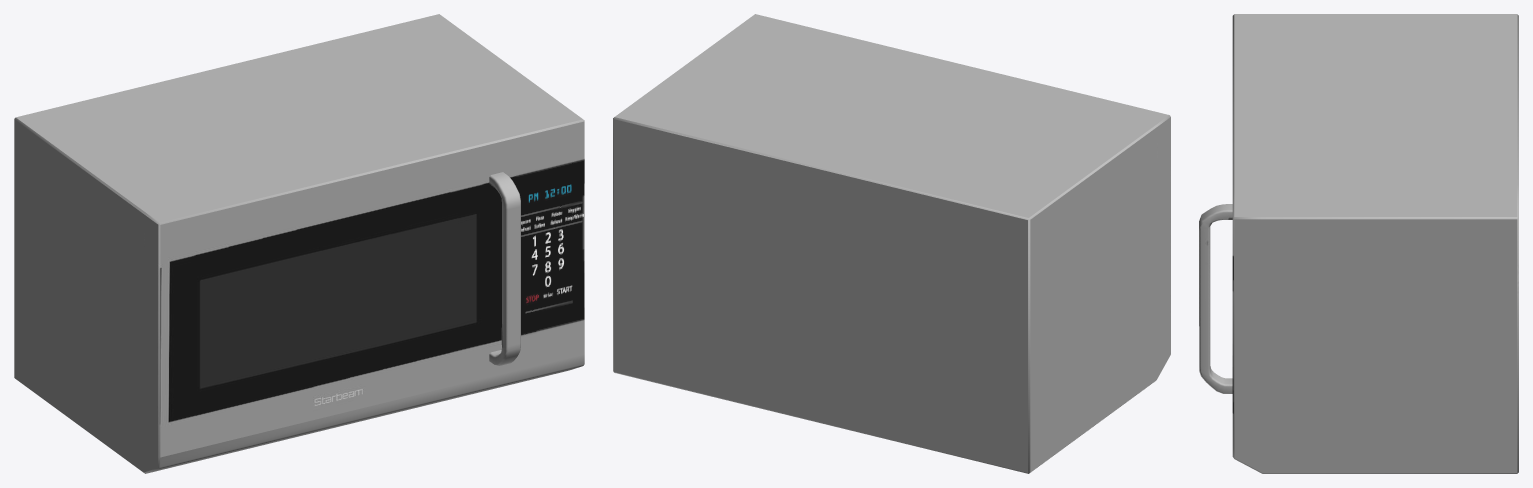
File: Micro_3.fbx
3 renders of one model, left to right at view 1: azimuth 30°, elevation 25°; view 2: azimuth 150°, elevation 25°; view 3: azimuth 270°, elevation 25°, orthographic. The views are drawn at different scales.
Parts seen in each view (by area): view 1: Micro_3; view 2: Micro_3; view 3: Micro_3.
Part boxes in pixels (<box>): Micro_3: <box>14,14,584,473</box>; Micro_3: <box>613,14,1170,473</box>; Micro_3: <box>1199,14,1518,473</box>.
Bounding box in the file's own units: 51.62 × 30.26 × 34.13.
1 material, 1 textured.
